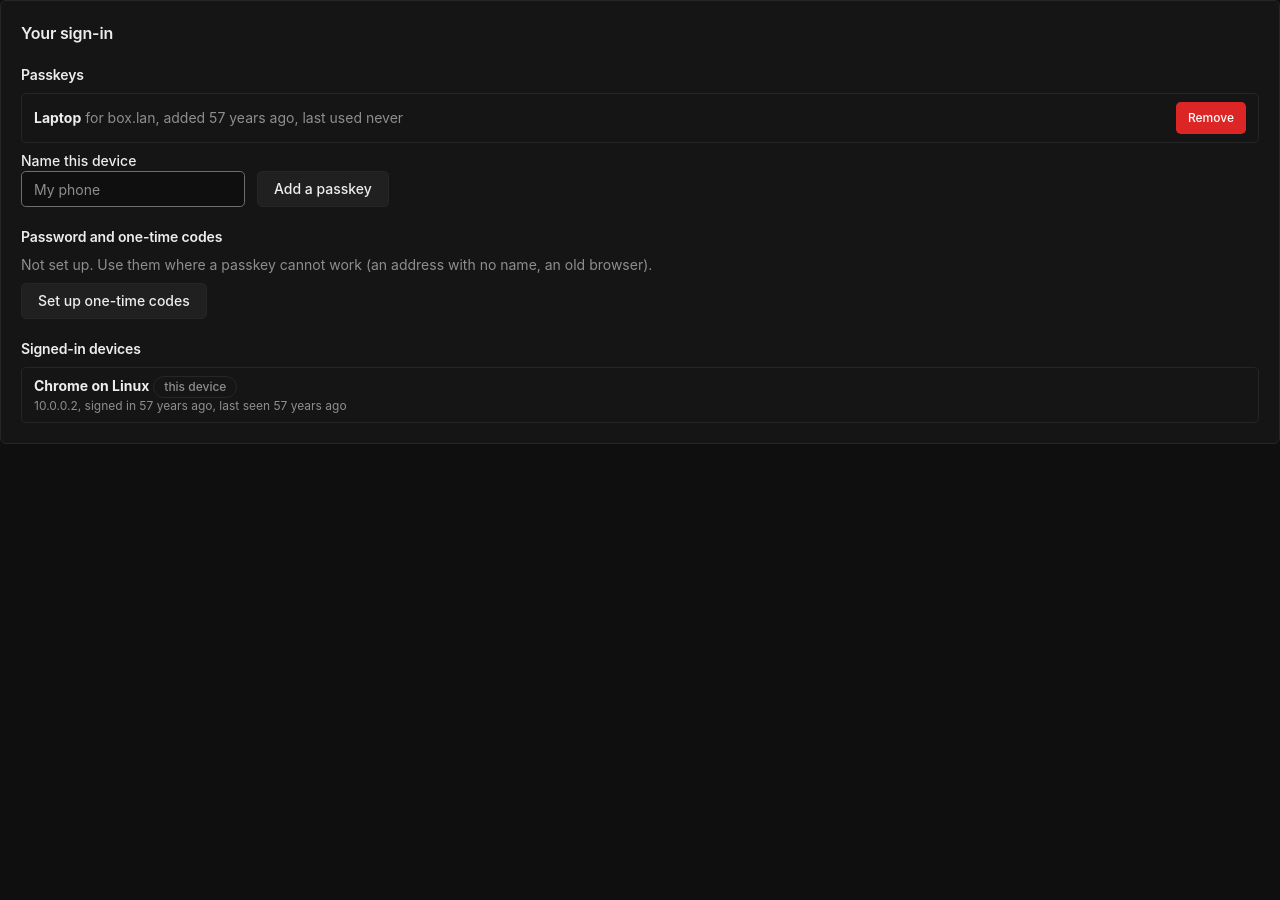
Test: your sign-in card › lists passkeys and refuses nothing silently: the panel's reason is shown
Step 1. Click the button with aria-label "Remove passkey Laptop" → x=1211, y=118, box [1176,102,1246,134]
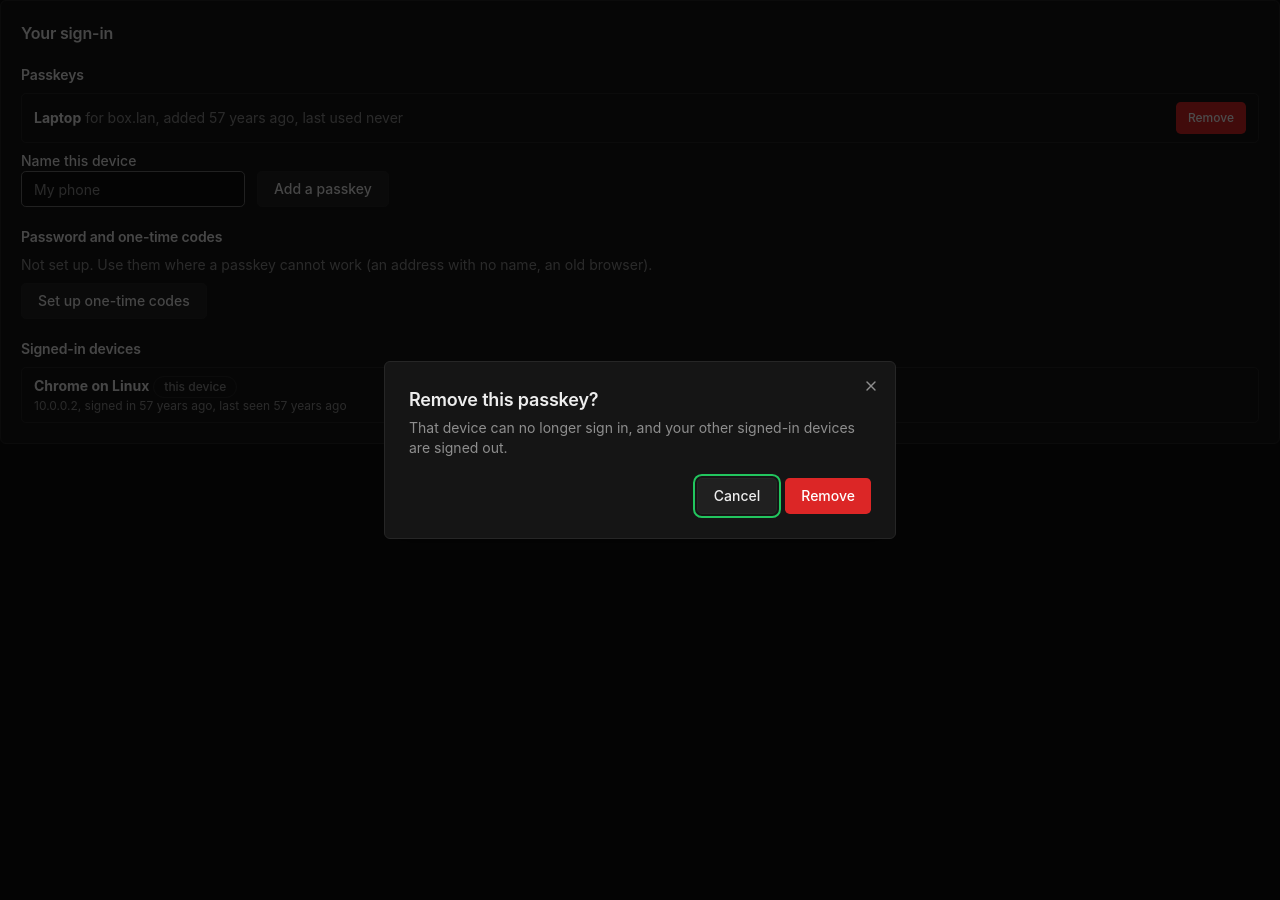
Step 2. Click the button "Remove" → x=828, y=496, box [785,478,871,514]
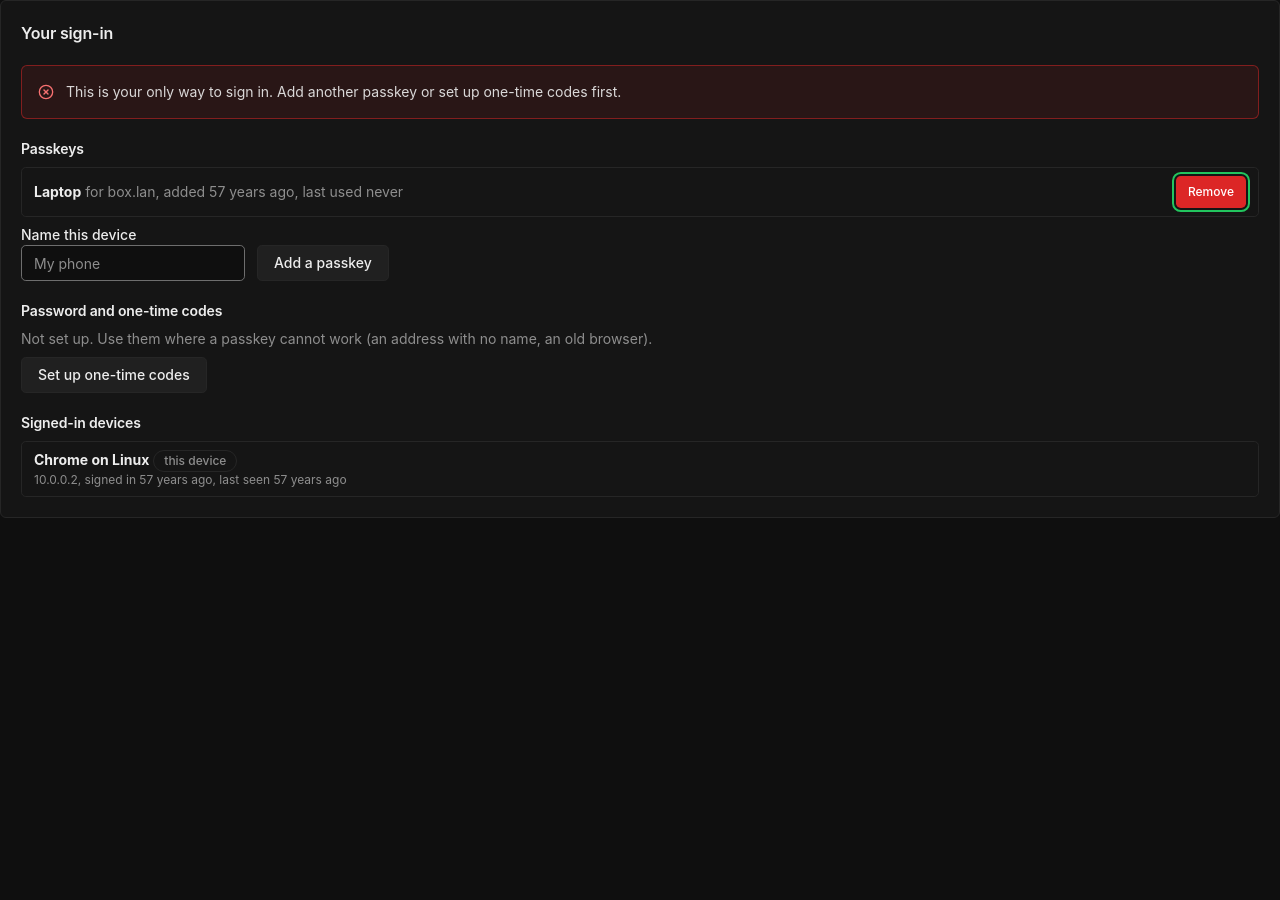
Check: the text "only way to sign in" is shown, box [66,83,621,100]
